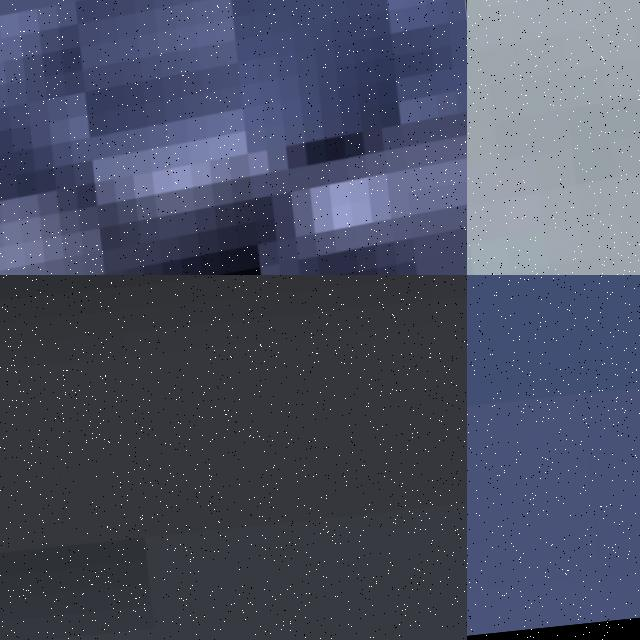0: (0, 0, 467, 275)
drone: (467, 0, 640, 275)
